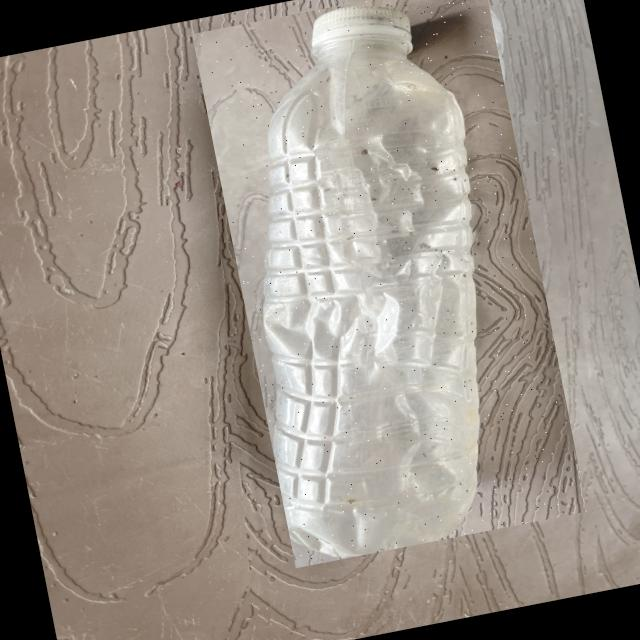REJECT: (191, 0, 586, 567)
